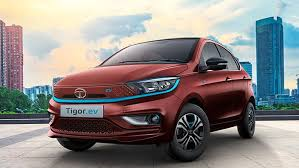Tiago: (45, 33, 257, 161)
